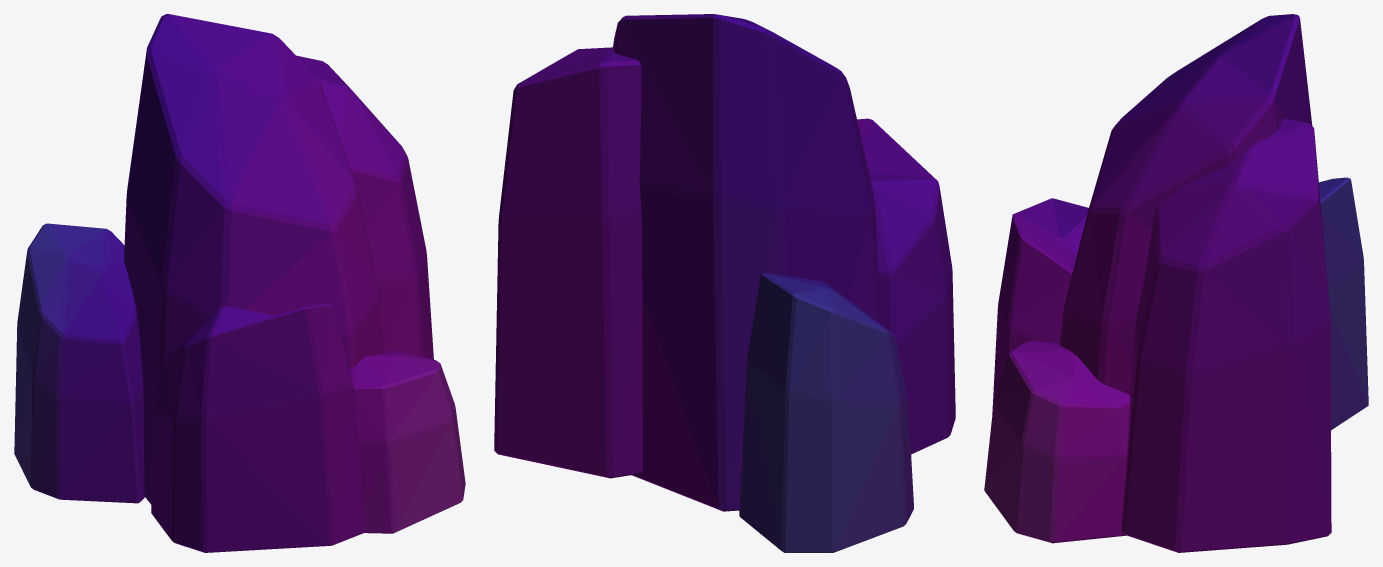
Rendered from SM_CinderCanyon_Rock_F_LOD1.fbx.
The picture shows the model from 3 angles, left to right: view 1: azimuth 30°, elevation 25°; view 2: azimuth 150°, elevation 25°; view 3: azimuth 270°, elevation 25°; orthographic projection. The views are drawn at different scales.
Visible parts, largest first — view 1: SM_CinderCanyon_Rock_F_LOD1; view 2: SM_CinderCanyon_Rock_F_LOD1; view 3: SM_CinderCanyon_Rock_F_LOD1.
Part boxes in pixels (bbox=[...]): SM_CinderCanyon_Rock_F_LOD1: bbox=[14, 14, 465, 552]; SM_CinderCanyon_Rock_F_LOD1: bbox=[494, 14, 955, 552]; SM_CinderCanyon_Rock_F_LOD1: bbox=[984, 14, 1368, 552].
Bounding box in the file's own units: 100 × 89 × 112.
